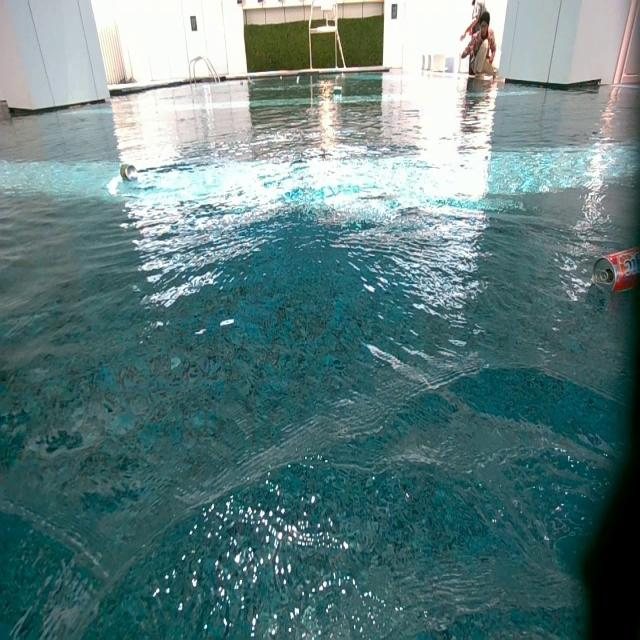Cans: (592, 250, 638, 296), (118, 164, 136, 182), (333, 85, 346, 94), (248, 80, 255, 88), (296, 76, 302, 81), (239, 81, 244, 86), (280, 76, 284, 80)
